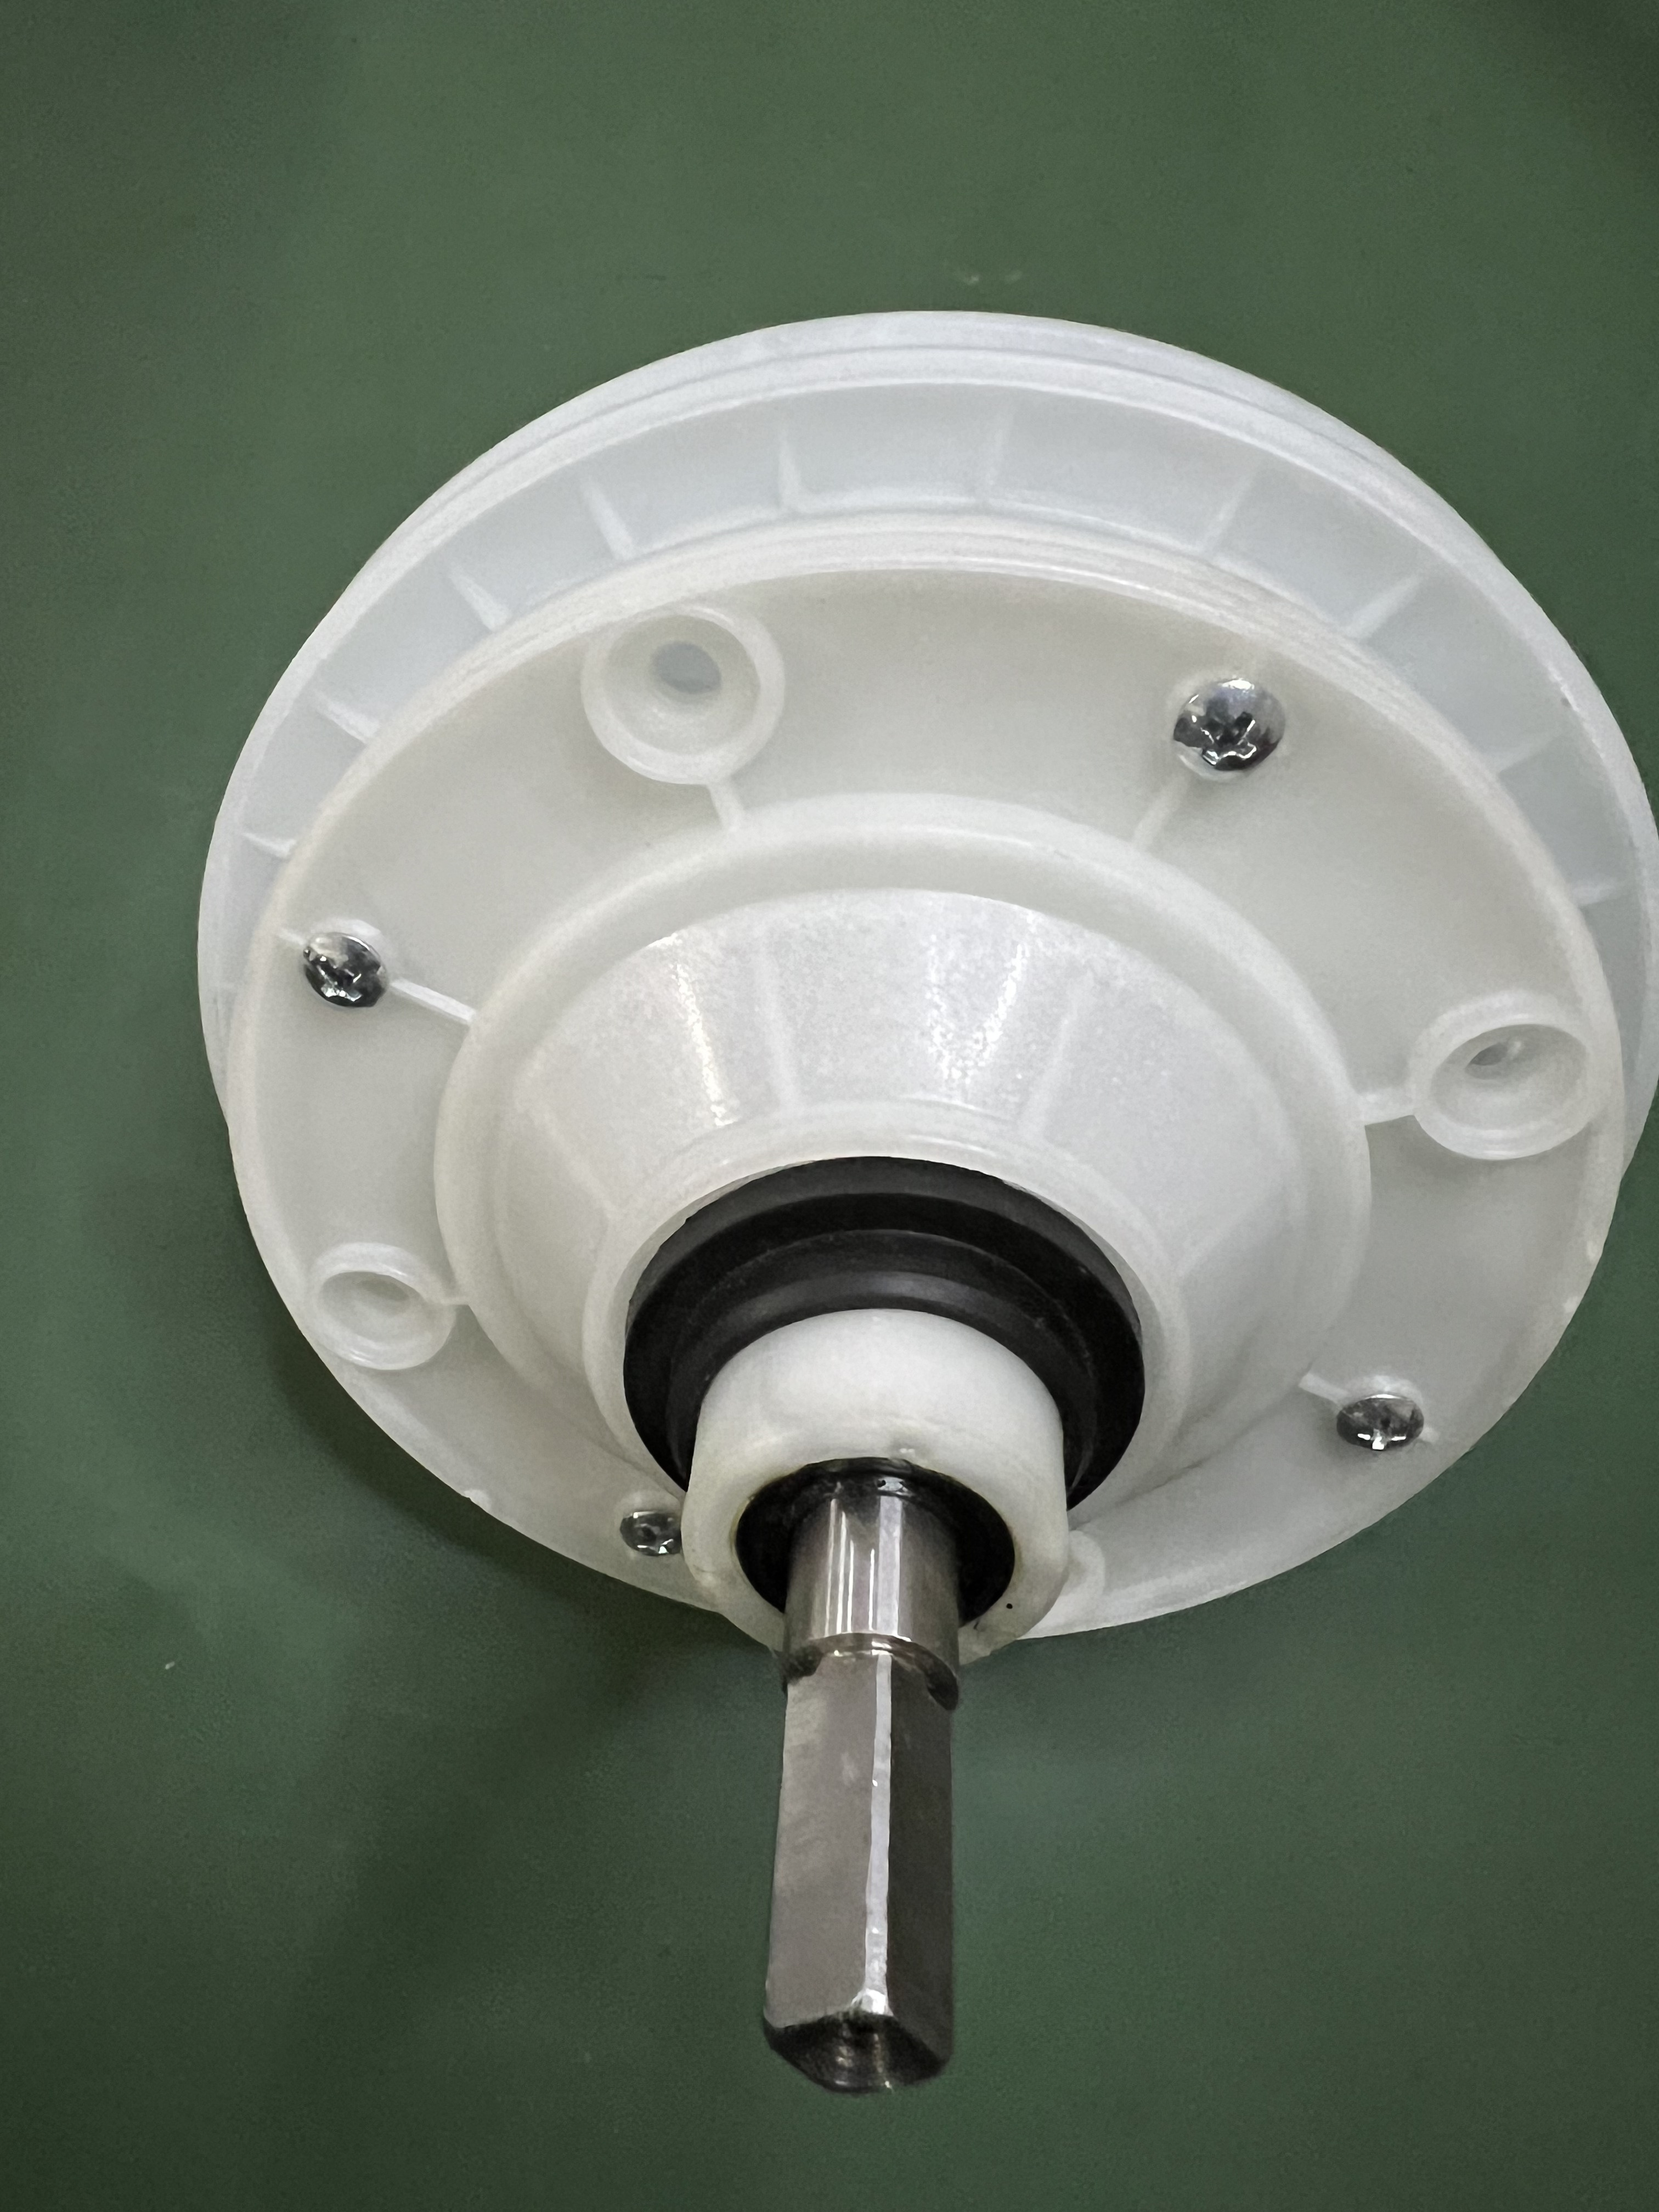gear_box_ovul: (186, 312, 1659, 2081)
